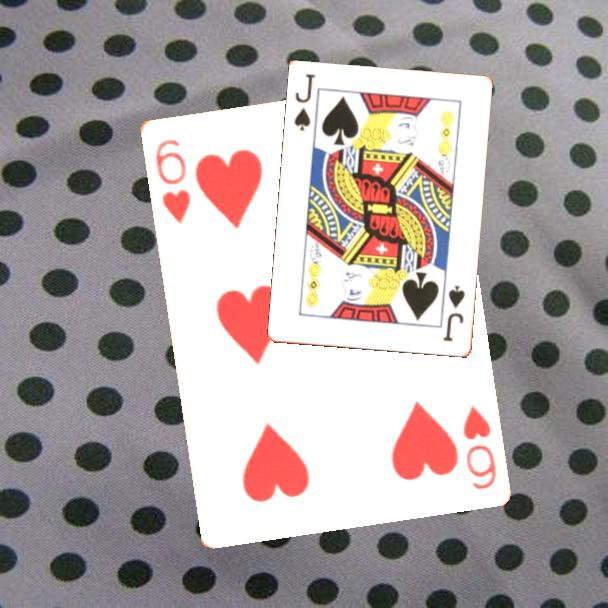h06: (151, 135, 193, 226), (458, 402, 499, 492)
s11: (440, 282, 468, 345), (291, 71, 319, 134)
